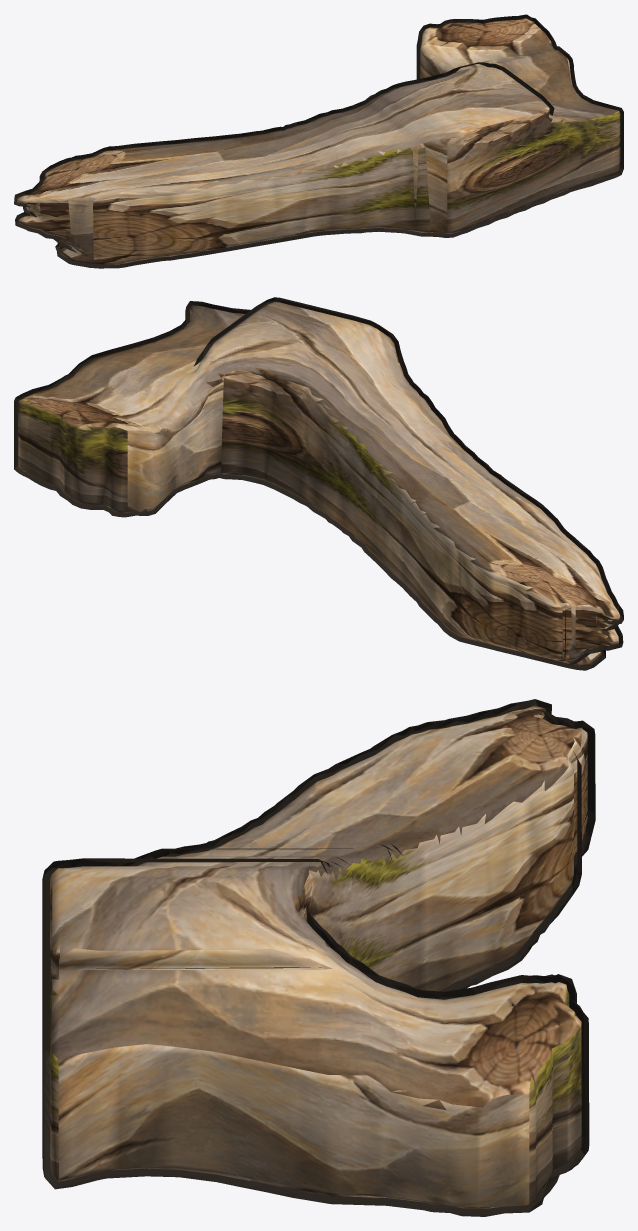
Rendered from bois_flotte.glb.
3 renders of one model, top to bottom at view 1: azimuth 30°, elevation 25°; view 2: azimuth 150°, elevation 25°; view 3: azimuth 270°, elevation 25°, orthographic. The views are drawn at different scales.
Parts seen in each view (by area): view 1: bois_flotte, bois_flotte_outline; view 2: bois_flotte, bois_flotte_outline; view 3: bois_flotte, bois_flotte_outline.
Boxes of the visible parts, bbox=[...] form: bois_flotte: bbox=[17, 18, 620, 264]; bois_flotte_outline: bbox=[14, 14, 623, 268]; bois_flotte: bbox=[18, 302, 620, 666]; bois_flotte_outline: bbox=[14, 297, 623, 670]; bois_flotte: bbox=[50, 705, 587, 1208]; bois_flotte_outline: bbox=[42, 699, 595, 1216].
Bounding box in the file's own units: 2.12 × 0.614 × 0.9726.
2 materials, 1 textured.
